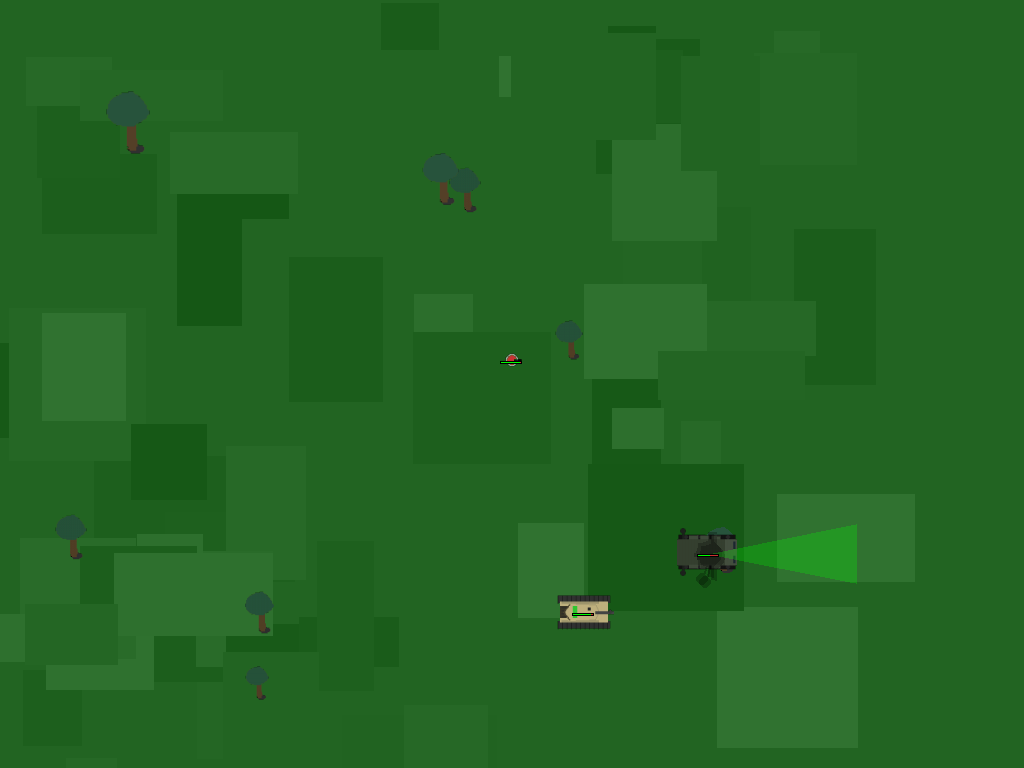M1A2_usa: (556, 585, 610, 639)
RadarBuilding: (672, 517, 744, 589)
Rifleman: (496, 345, 526, 375)
